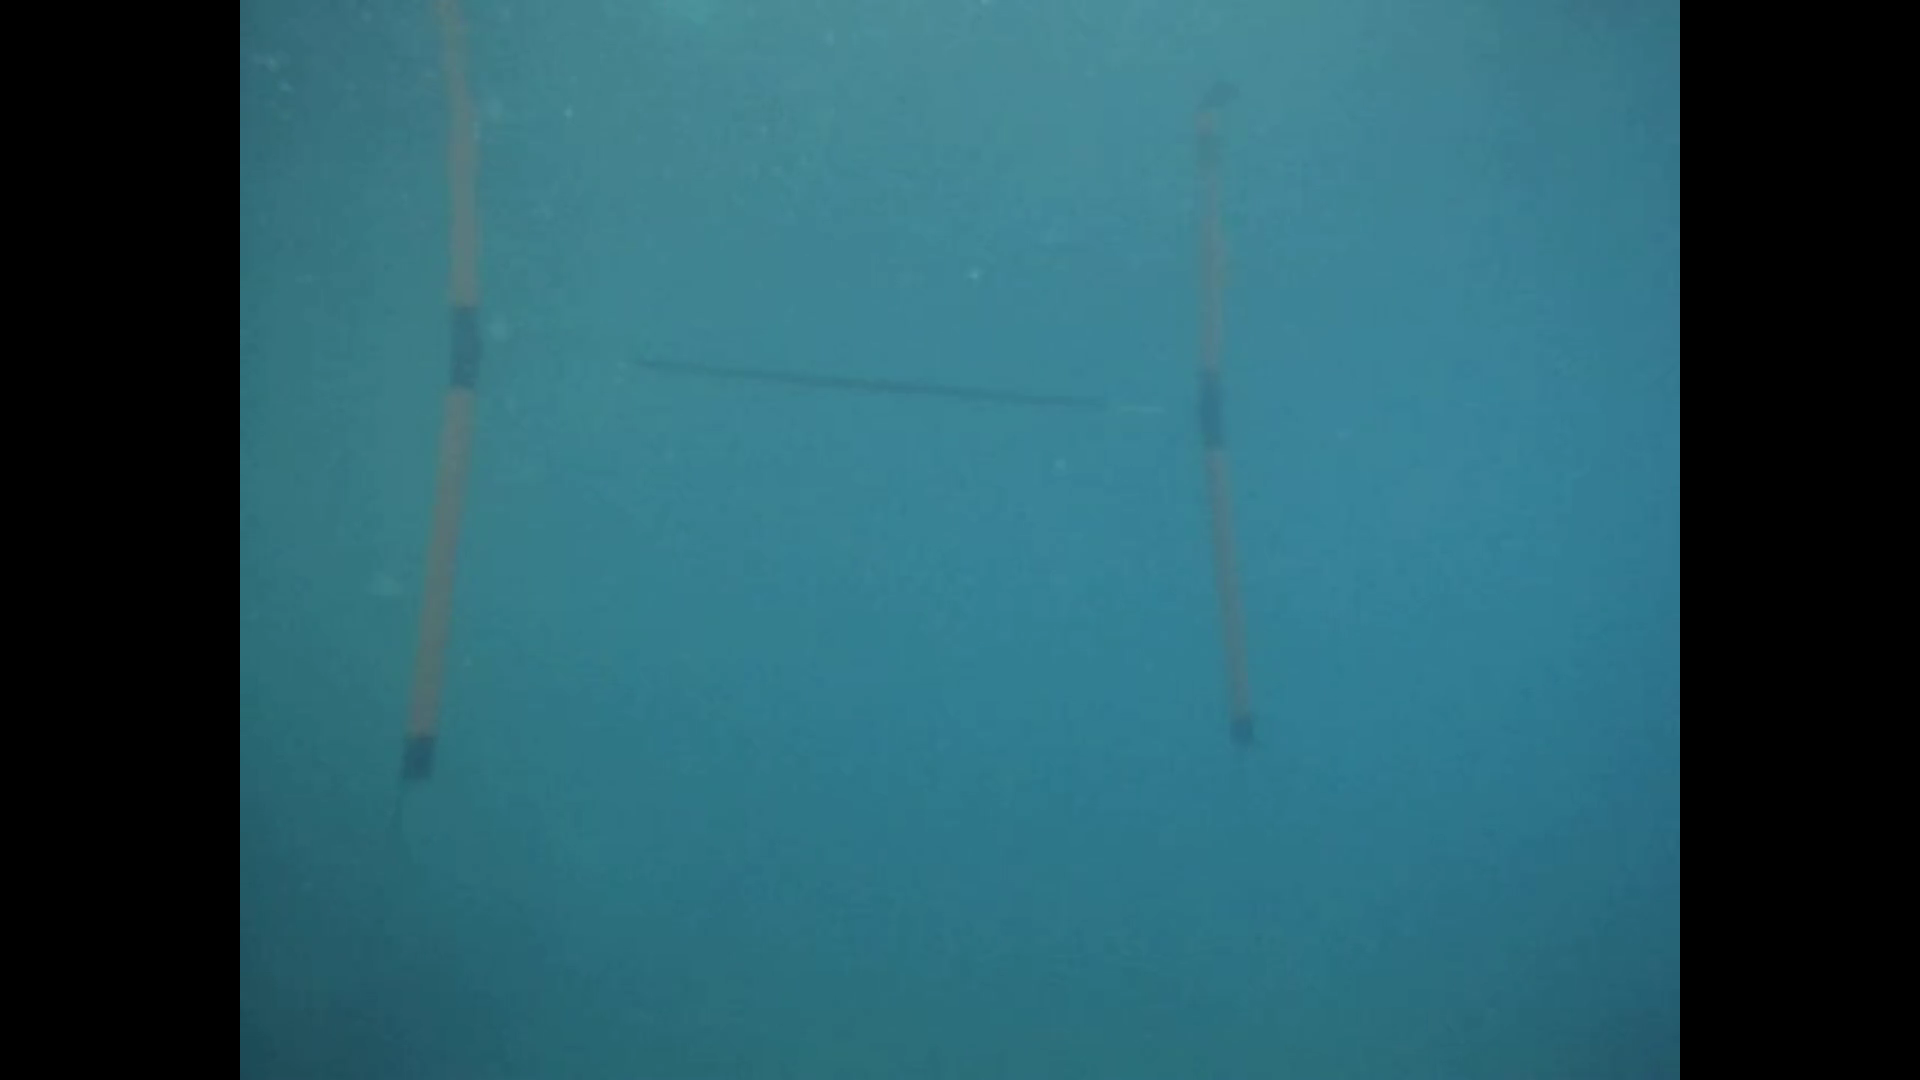gate: (392, 364, 1259, 796)
